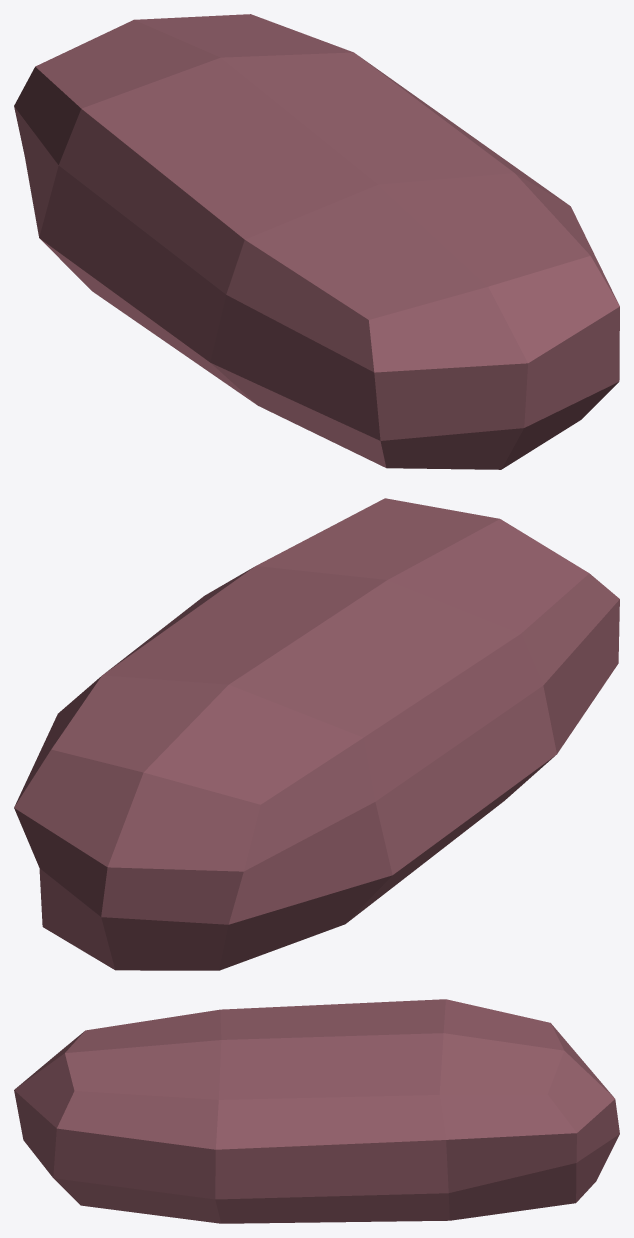
Rendered from Rock_06_Lod1.fbx.
The picture shows the model from 3 angles, top to bottom: view 1: azimuth 30°, elevation 25°; view 2: azimuth 150°, elevation 25°; view 3: azimuth 270°, elevation 25°; orthographic projection. The views are drawn at different scales.
Visible parts, largest first — view 1: Rock_06_Lod1; view 2: Rock_06_Lod1; view 3: Rock_06_Lod1.
Part boxes in pixels (box(x1,y1,x2,y2)): Rock_06_Lod1: box(14, 14, 619, 469); Rock_06_Lod1: box(14, 498, 619, 970); Rock_06_Lod1: box(14, 999, 619, 1223).
Bounding box in the file's own units: 48.97 × 29.42 × 101.
